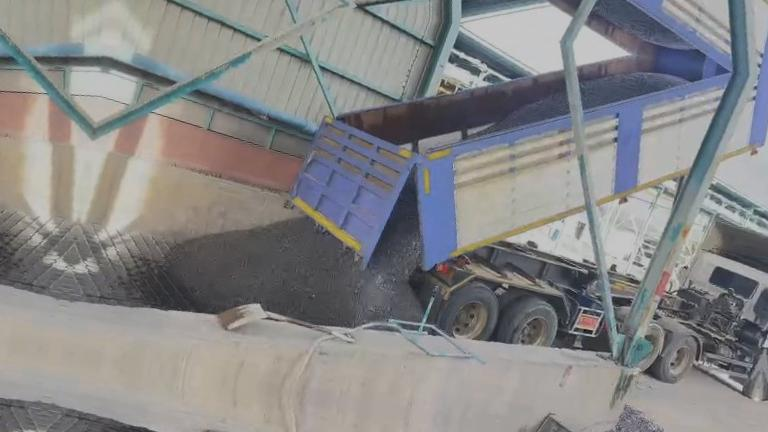gravel: (166, 179, 422, 325), (472, 92, 568, 138), (580, 72, 686, 109), (597, 406, 698, 432)
